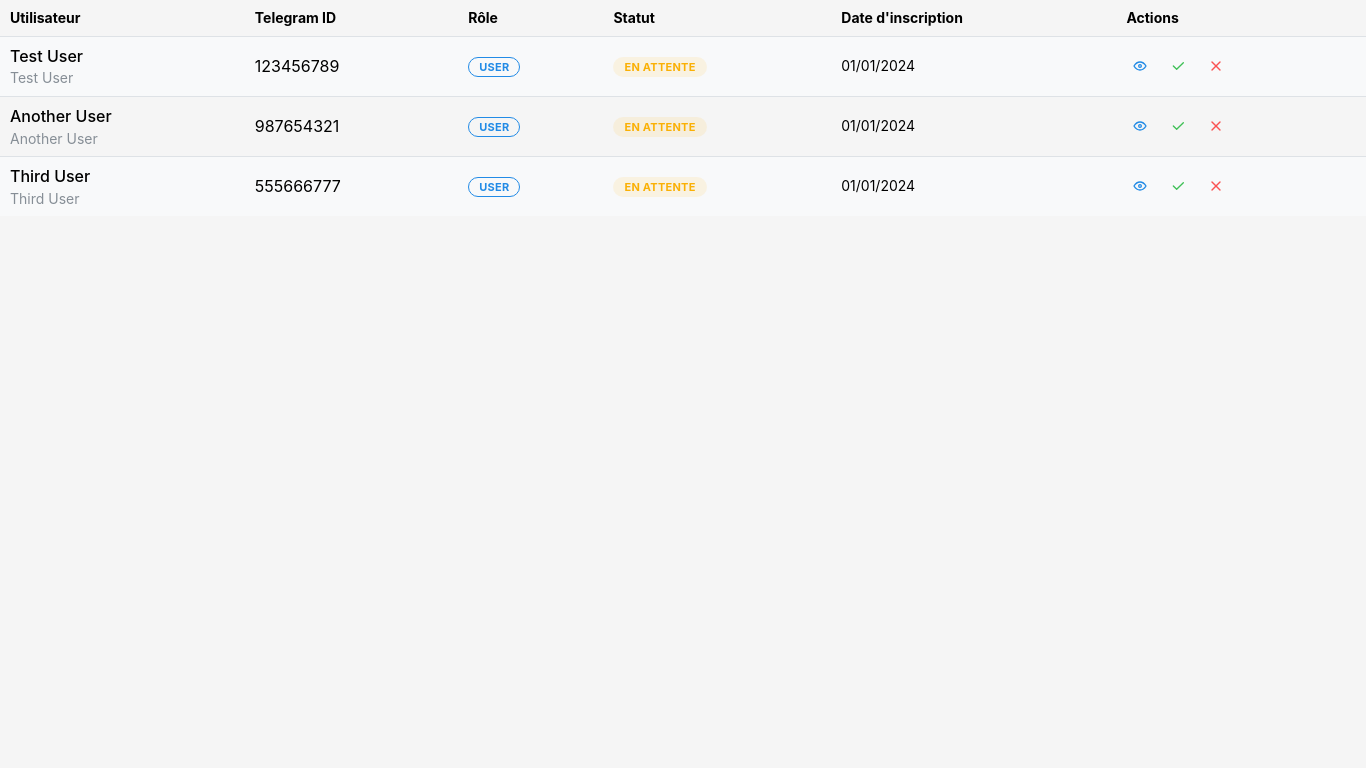
PendingUsersTable › Modal d'approbation › ouvre le modal d'approbation quand on clique sur l'icône d'approbation
The image size is (1366, 768).
What coordinates should you click on to do the following:
click the button with test id "approve-user-1"
I would click on:
 (1178, 66)
Its box is x1=1164 y1=52 x2=1192 y2=80.
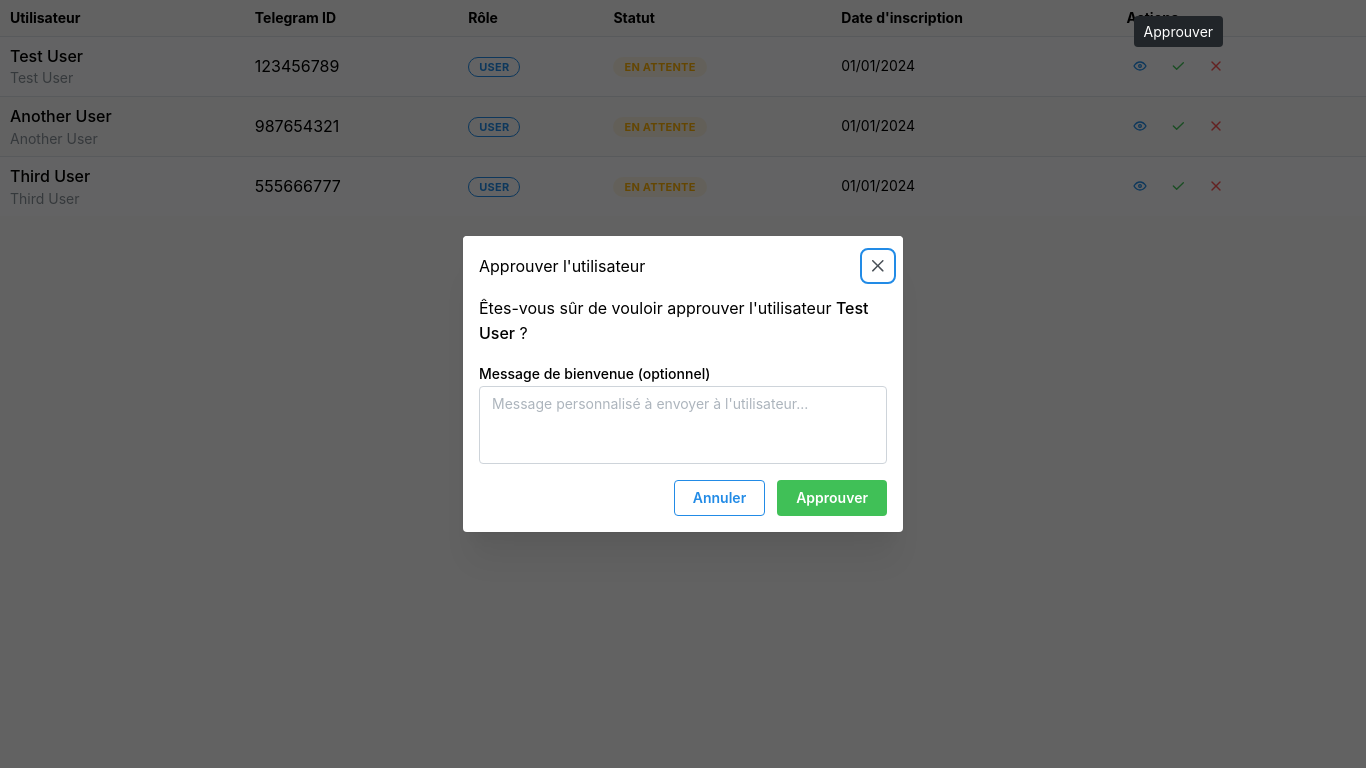
Check: the dialog "Approuver l'utilisateur" is shown, box x1=463 y1=236 x2=903 y2=532
